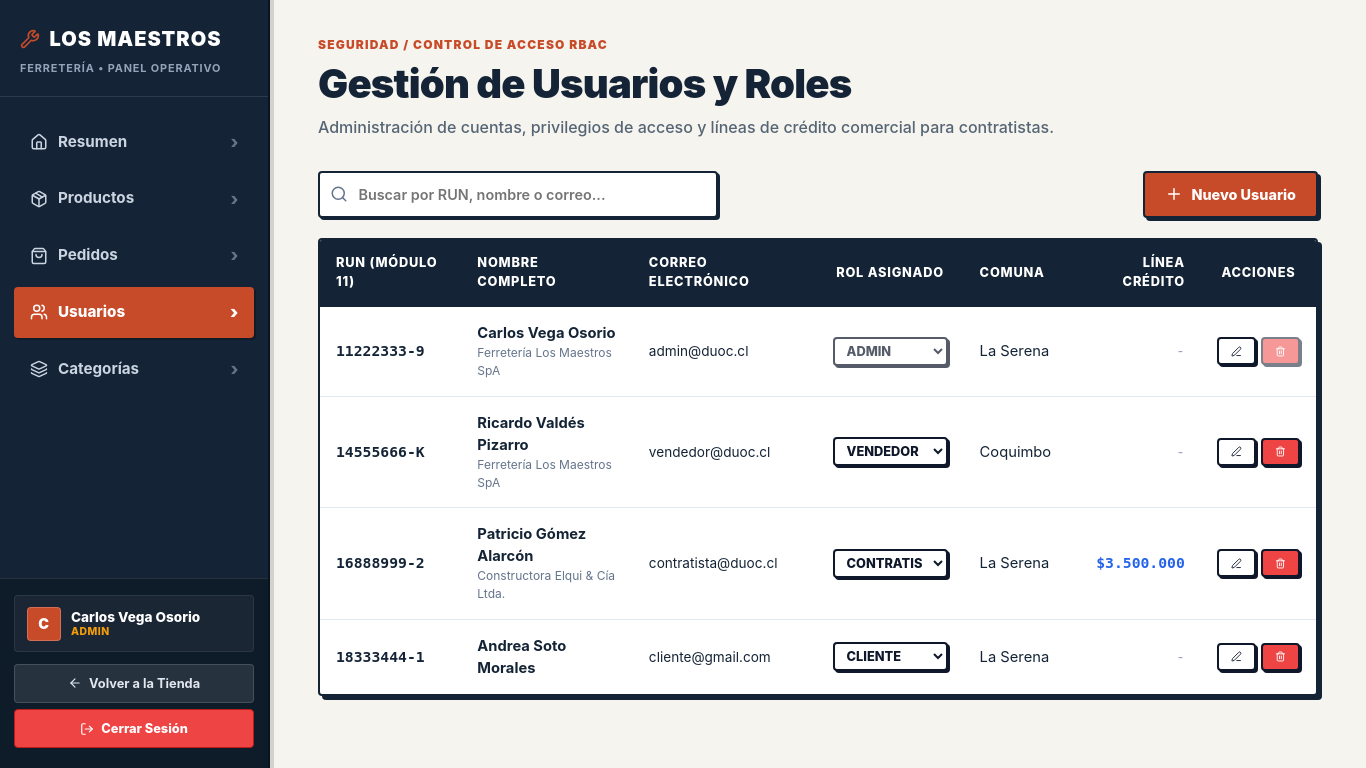
it: Acceso a vistas y gestión de usuarios › rechaza RUN inválido desde el formulario administrativo
The width and height of the screenshot is (1366, 768).
Click the button "Nuevo Usuario".
click(1231, 194)  # box [1143,171,1318,218]
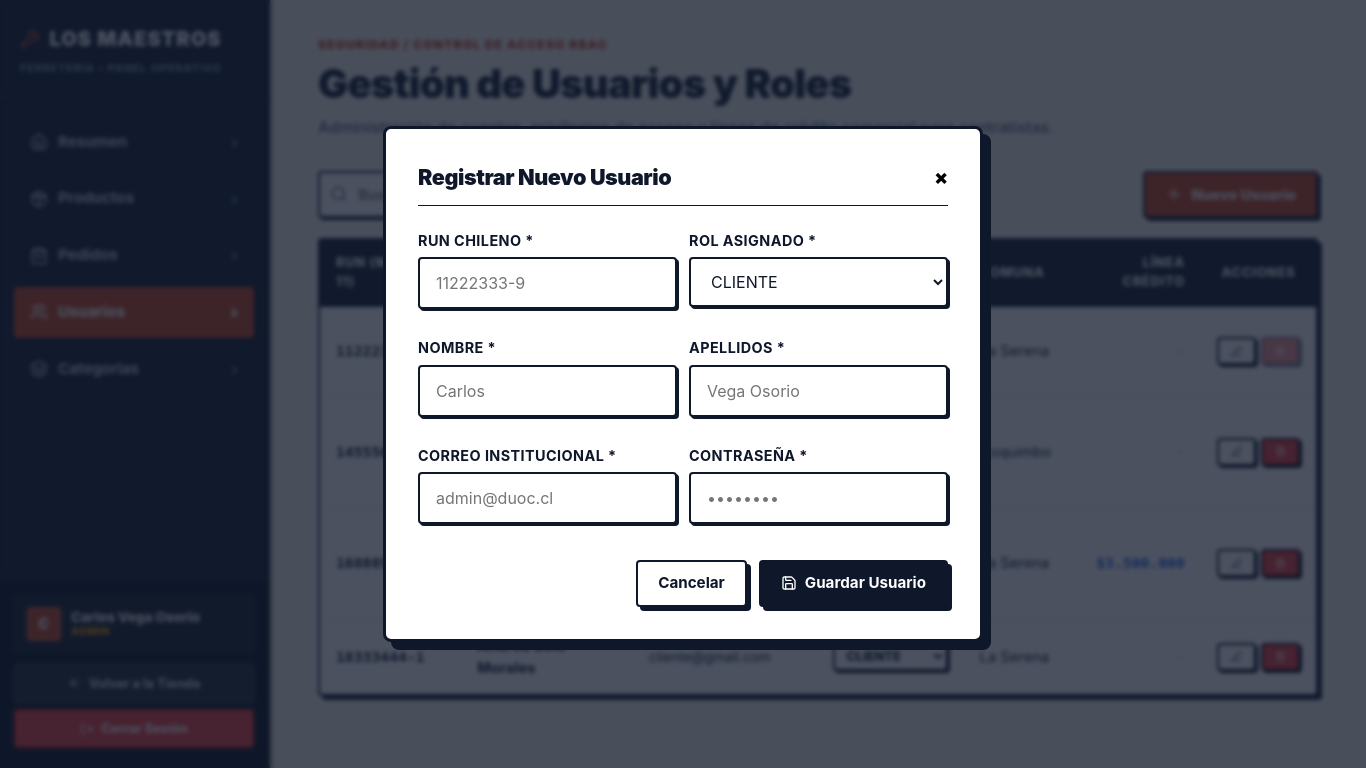
Type "12345678-0" into the field with placeholder "11222333-9".
click(548, 283); type("12345678-0")  # box [418,257,677,309]
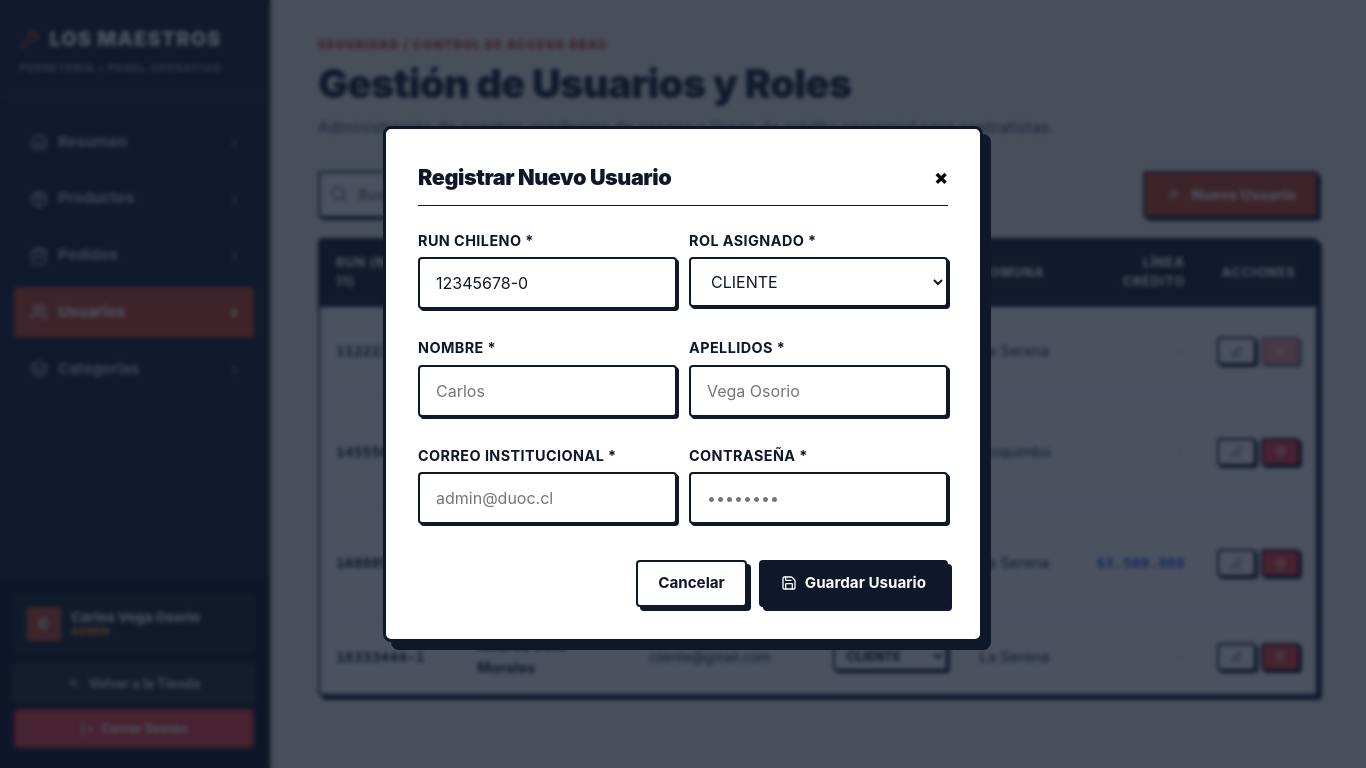
Submit the form with placeholder "11222333-9", box [418,230,948,607]
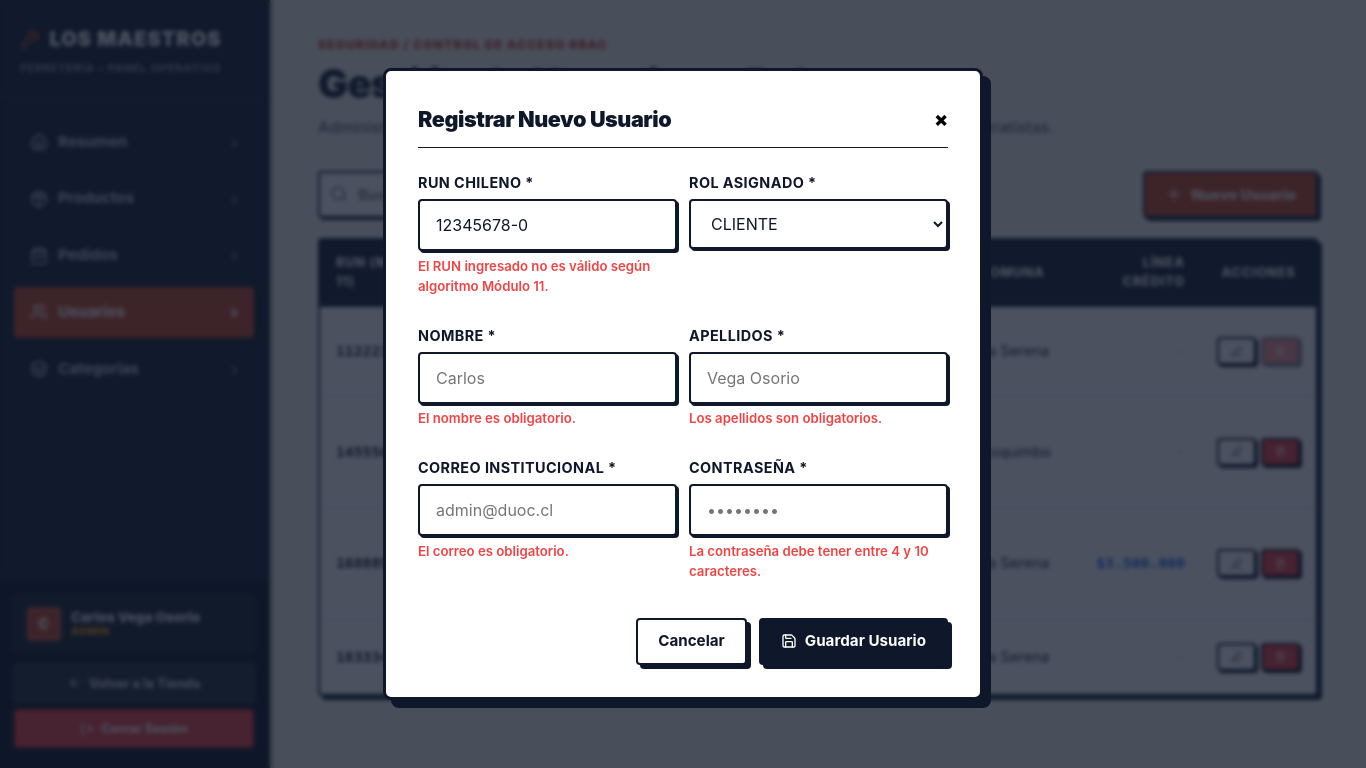
expect the text "El RUN ingresado no es válido según algoritmo Módulo 11." is shown: met, box [418,257,677,297]
